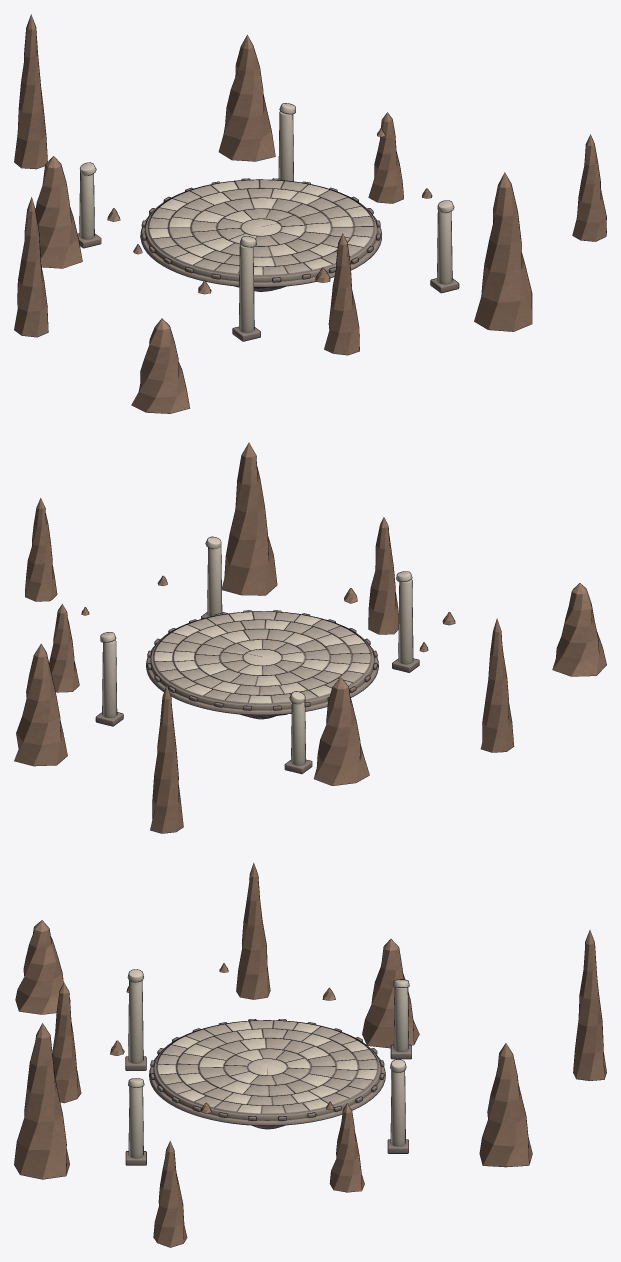
File: arena.glb
3 renders of one model, top to bottom at view 1: azimuth 30°, elevation 25°; view 2: azimuth 150°, elevation 25°; view 3: azimuth 270°, elevation 25°, orthographic. The views are drawn at different scales.
Visible parts, largest first — view 1: Stage; view 2: Stage; view 3: Stage.
Part boxes in pixels (left/top/right/bottom): Stage: left=14, top=14, right=606, bottom=413; Stage: left=14, top=442, right=606, bottom=833; Stage: left=14, top=862, right=606, bottom=1247.
Size of the model in its own units: 39.23 by 11.59 by 37.63.
2 materials, 1 textured.
